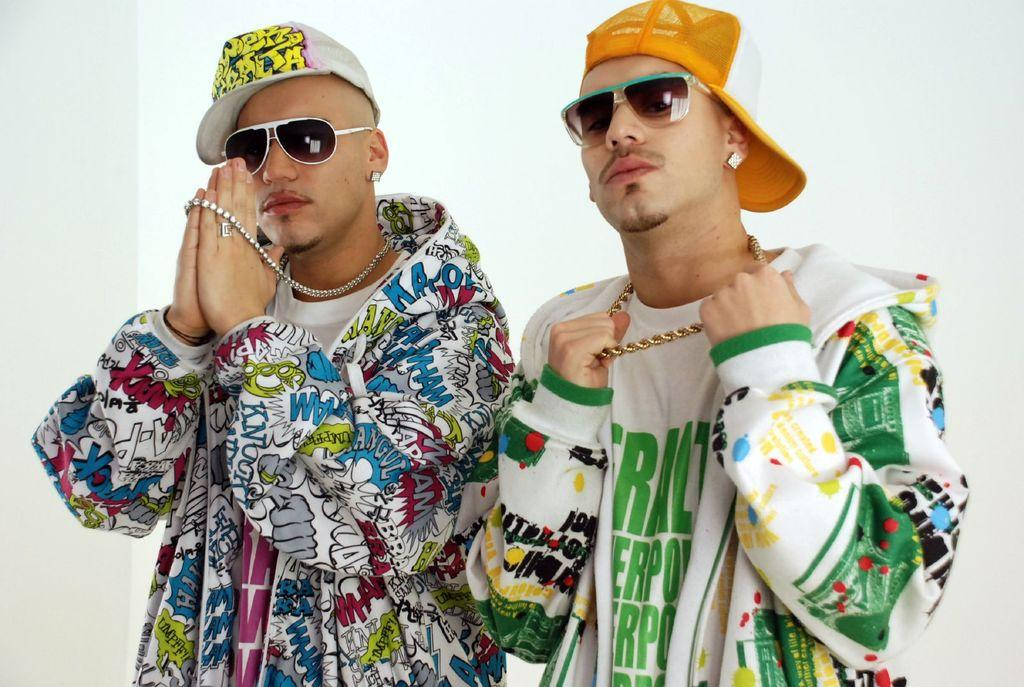Hat: (582, 0, 806, 214), (190, 20, 380, 165)
